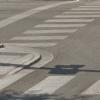Crosswalk: (9, 9, 100, 51)
